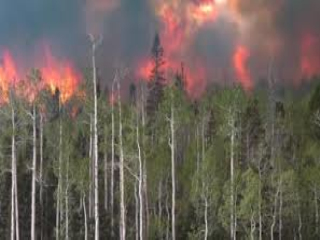fire: (228, 10, 315, 91), (134, 10, 211, 93), (2, 52, 93, 113)
